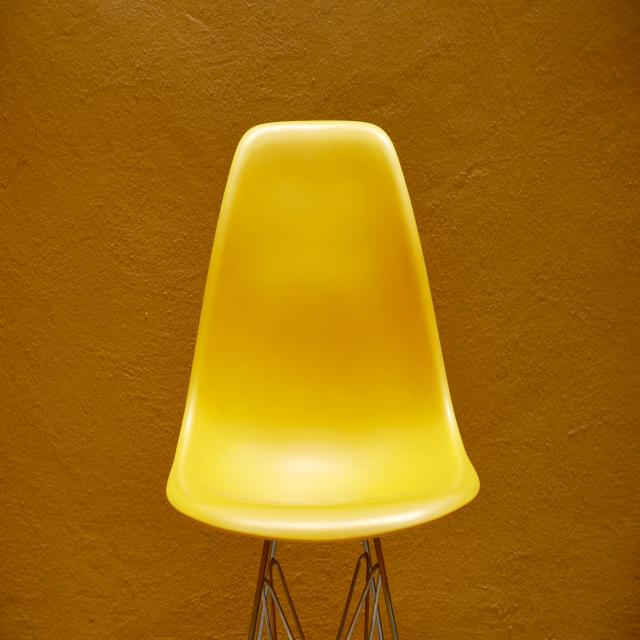Plastic: (165, 122, 482, 547)
